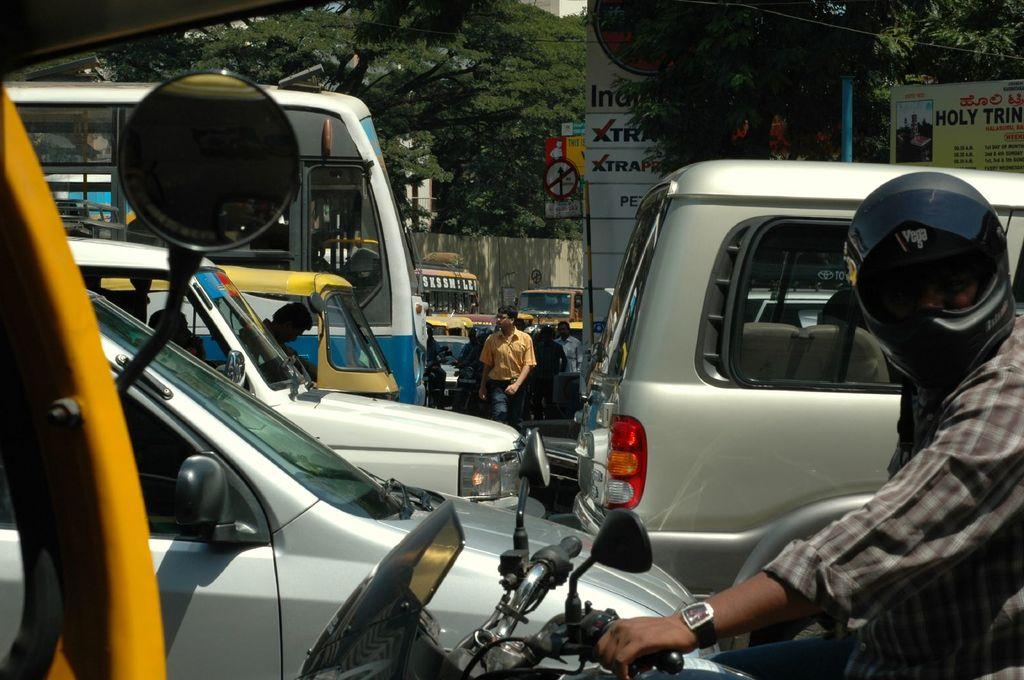helmet: (846, 171, 1016, 391)
nohelmet: (495, 303, 519, 331), (557, 320, 571, 339)
